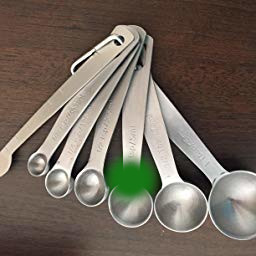focus: (107, 152, 158, 199)
